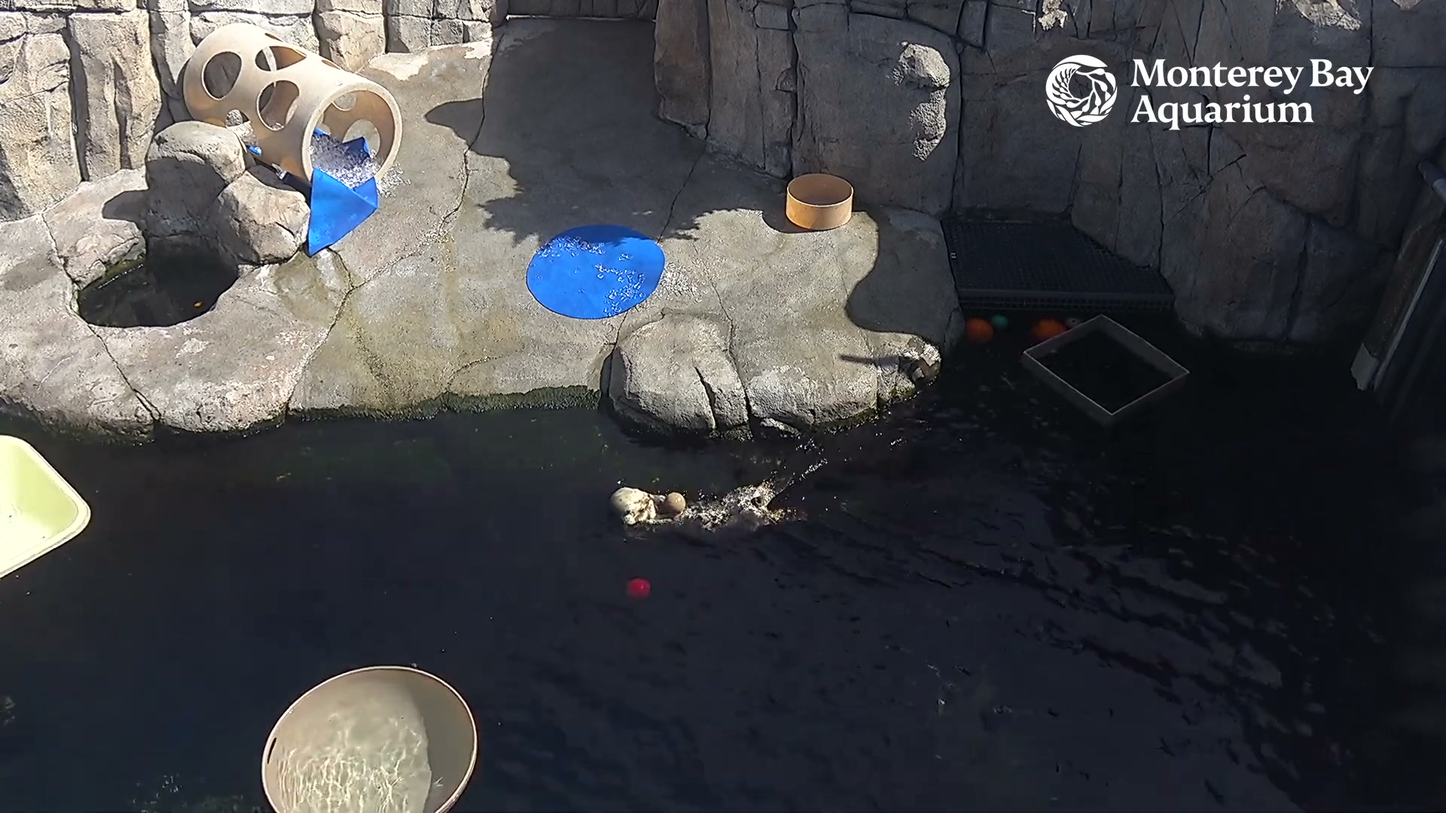Southern Sea Otter: (584, 443, 834, 558)
